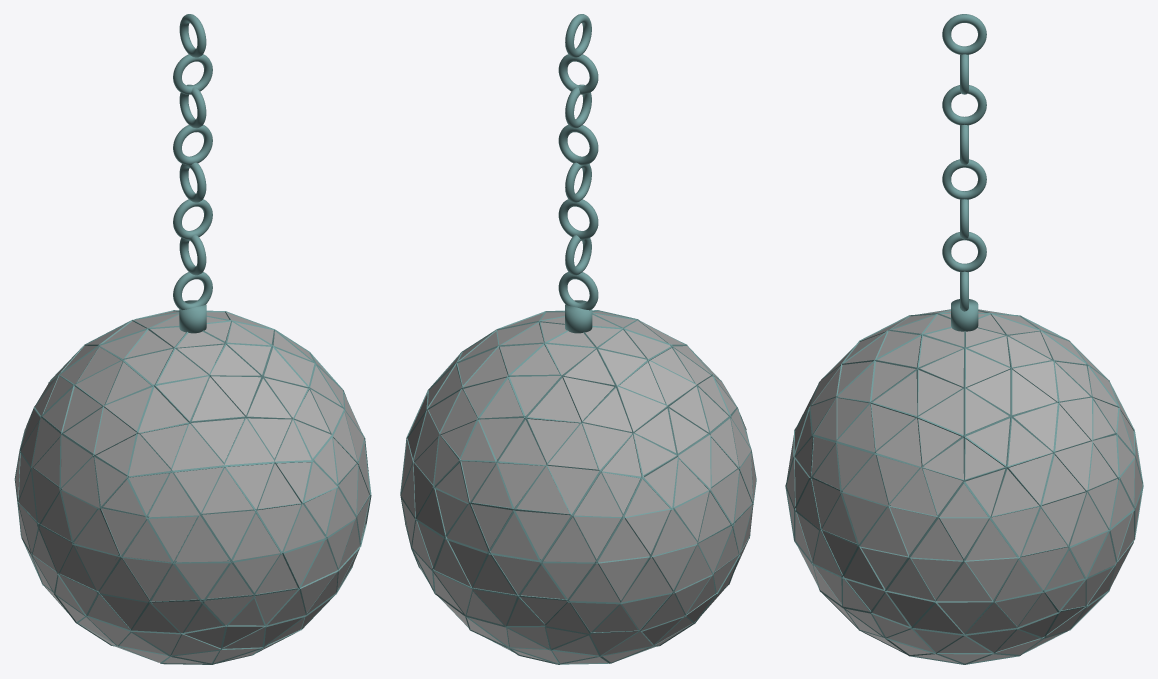
File: discoball.fbx
3 views of the same model, side by side, from view 1: azimuth 30°, elevation 25°; view 2: azimuth 150°, elevation 25°; view 3: azimuth 270°, elevation 25° (orthographic).
Parts seen in each view (by area): view 1: DiscoInside, DiscoOutside, Torus.004; view 2: DiscoInside, DiscoOutside, Torus.004; view 3: DiscoInside, DiscoOutside, Torus.004.
Part boxes in pixels (x1=…): DiscoInside: x1=15, y1=311, x2=369, y2=663; DiscoOutside: x1=14, y1=310, x2=371, y2=664; Torus.004: x1=173, y1=14, x2=212, y2=333; DiscoInside: x1=401, y1=311, x2=755, y2=663; DiscoOutside: x1=400, y1=310, x2=756, y2=664; Torus.004: x1=558, y1=14, x2=598, y2=333; DiscoInside: x1=786, y1=309, x2=1142, y2=663; DiscoOutside: x1=785, y1=309, x2=1143, y2=664; Torus.004: x1=942, y1=14, x2=986, y2=331.
Bounding box in the file's own units: 204 × 398 × 204.
